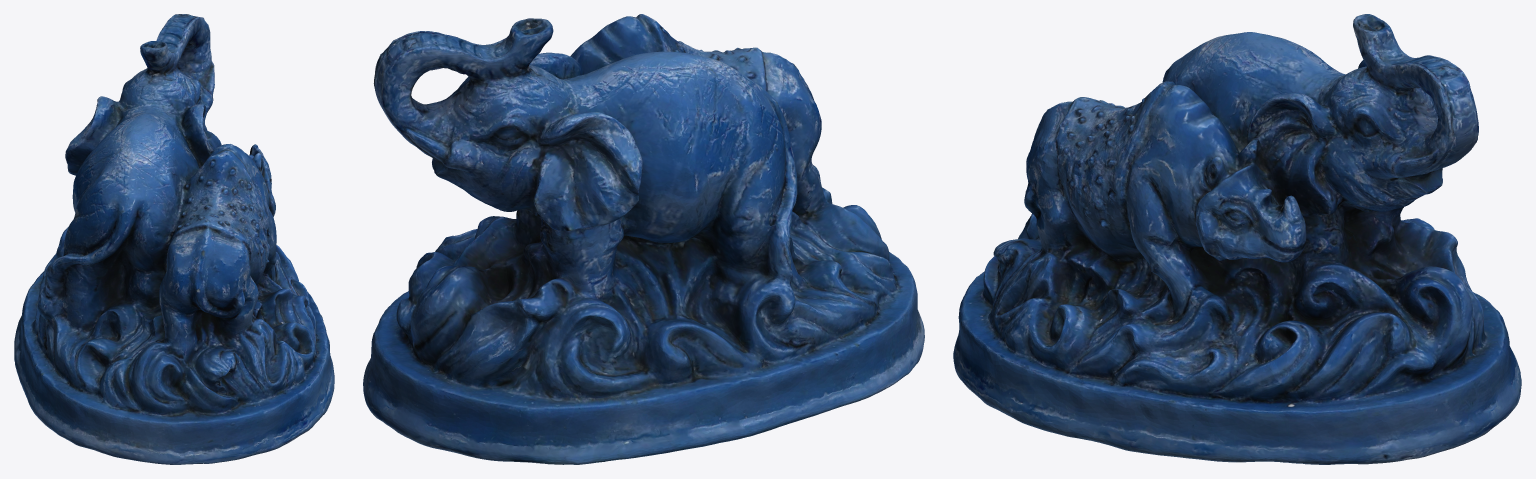
Rendered from elefante_y_rhino_fix.glb.
3 renders of one model, left to right at view 1: azimuth 30°, elevation 25°; view 2: azimuth 150°, elevation 25°; view 3: azimuth 270°, elevation 25°, orthographic. The views are drawn at different scales.
Visible parts, largest first — view 1: Mesh_0.001; view 2: Mesh_0.001; view 3: Mesh_0.001.
Part boxes in pixels (box(x1,y1,x2,y2)): Mesh_0.001: box(14, 14, 334, 464); Mesh_0.001: box(363, 14, 924, 464); Mesh_0.001: box(953, 14, 1521, 464).
Bounding box in the file's own units: 3.55 × 3.17 × 4.29.
Materials: 1 (1 with a texture image).
